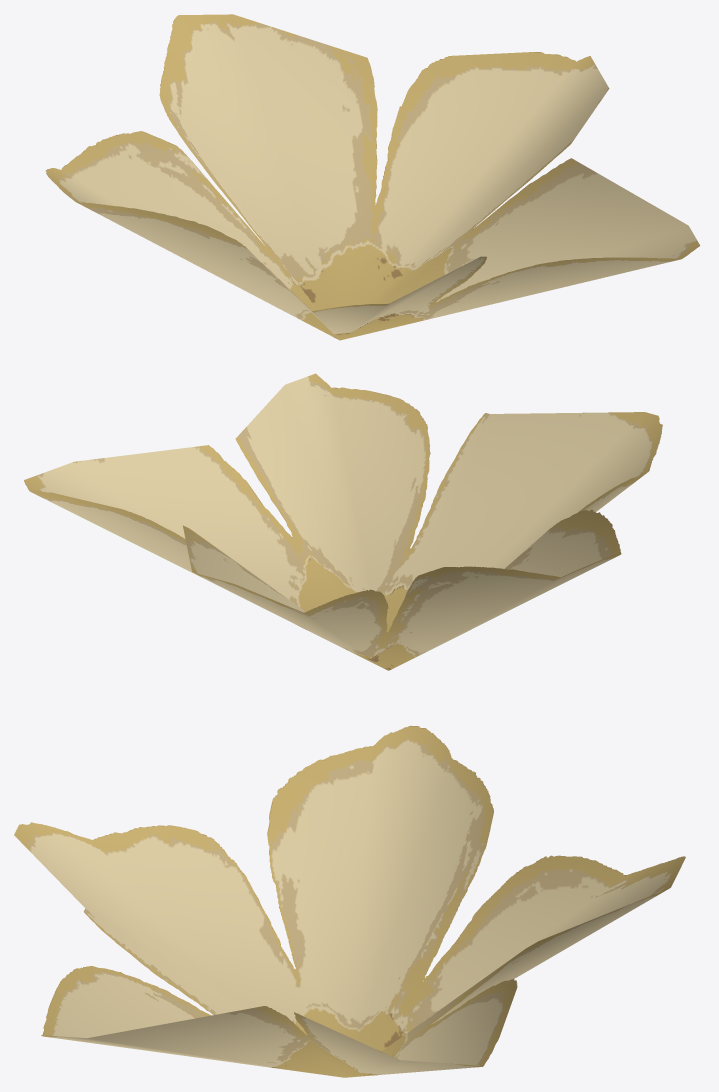
File: Petal_2__go_village.glb
The picture shows the model from 3 angles, top to bottom: view 1: azimuth 30°, elevation 25°; view 2: azimuth 150°, elevation 25°; view 3: azimuth 270°, elevation 25°; orthographic projection. The views are drawn at different scales.
Visible parts, largest first — view 1: Petal_2; view 2: Petal_2; view 3: Petal_2.
Part boxes in pixels (left/top/right/bottom): Petal_2: left=45, top=14, right=700, bottom=340; Petal_2: left=24, top=373, right=662, bottom=670; Petal_2: left=14, top=725, right=685, bottom=1077.
Size of the model in its own units: 0.6732 by 0.2361 by 0.6311.
1 material, 1 textured.
